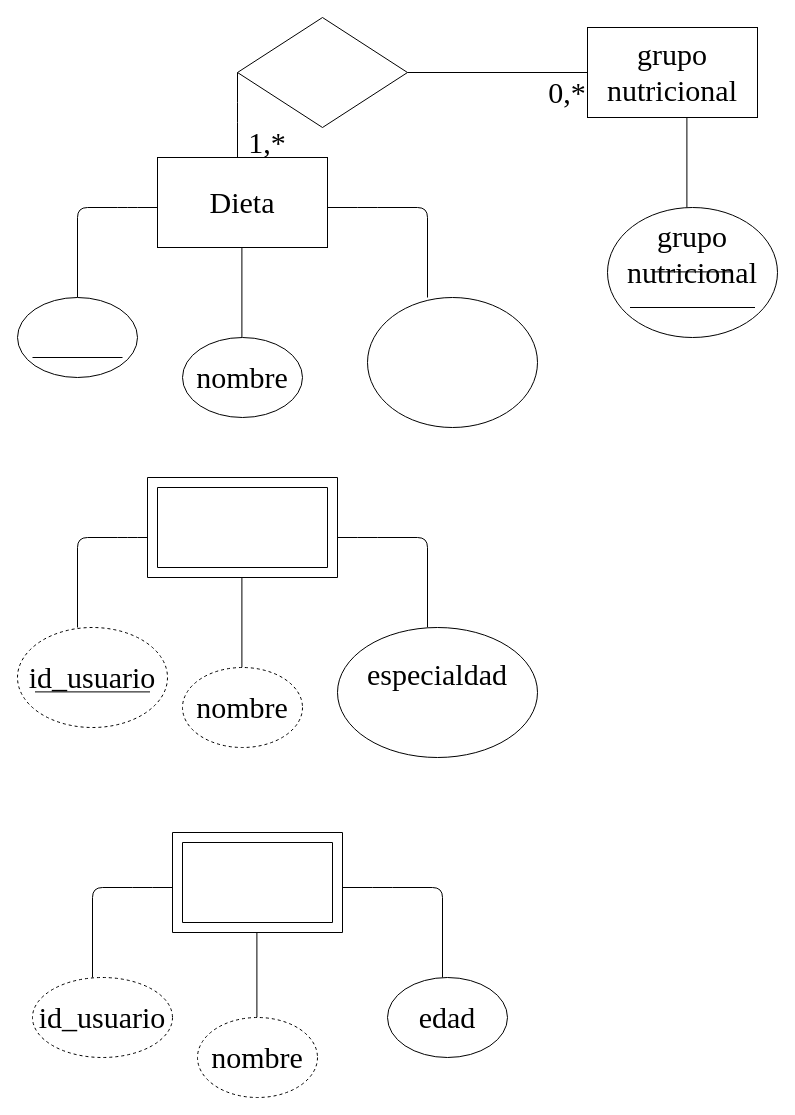
Image size: 795x1115. Some labels were removed from this diagram. Each missing label, with the box of its shape:
id_dieta: (16, 296, 138, 378)
Nutricionista: (146, 476, 338, 578)
Paciente: (172, 832, 342, 932)
programa de atención: (366, 296, 538, 428)
TENER: (236, 16, 408, 128)
